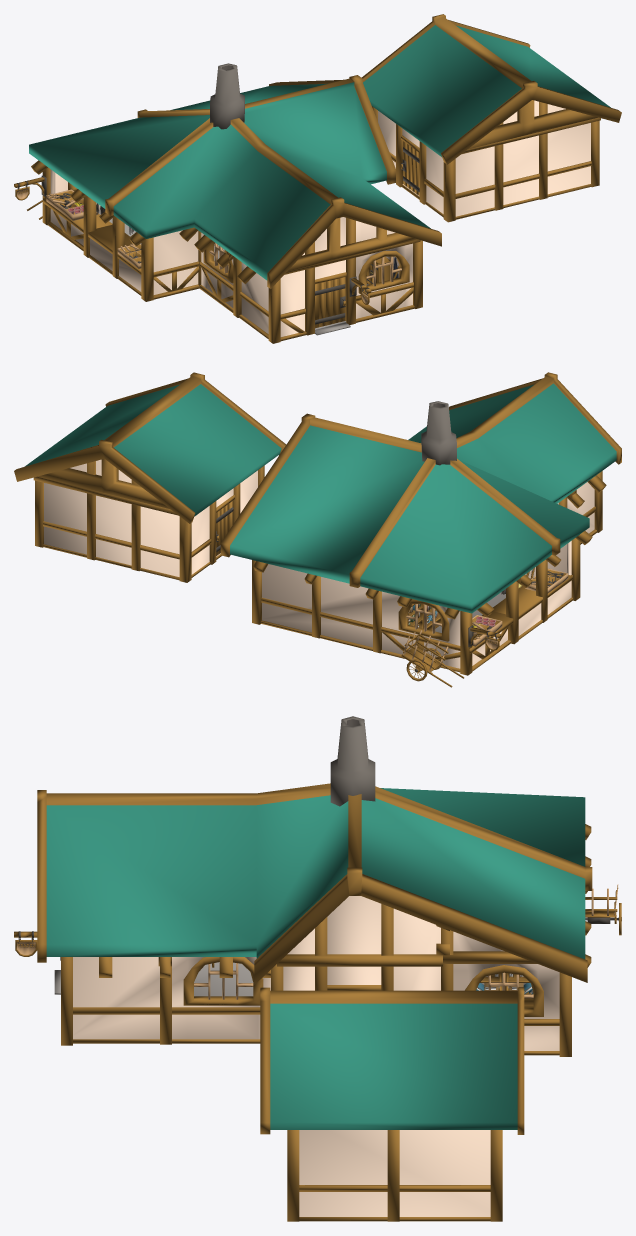
The model's file is SHOP_tradesman_03export.fbx.
The picture shows the model from 3 angles, top to bottom: view 1: azimuth 30°, elevation 25°; view 2: azimuth 150°, elevation 25°; view 3: azimuth 270°, elevation 25°; orthographic projection. The views are drawn at different scales.
Parts seen in each view (by area): view 1: Empty_Mesh_4, Empty_Mesh_2, Empty_Mesh_1, clothier_base, Empty_Mesh_3, Empty_Mesh; view 2: Empty_Mesh_4, Empty_Mesh_1, Empty_Mesh_2, clothier_base, Empty_Mesh, Empty_Mesh_3; view 3: Empty_Mesh_4, Empty_Mesh_1, Empty_Mesh_2, clothier_base, Empty_Mesh.
Boxes of the visible parts, x1=… form: Empty_Mesh_4: x1=29, y1=63, x2=441, y2=288; Empty_Mesh_2: x1=14, y1=160, x2=422, y2=343; Empty_Mesh_1: x1=361, y1=14, x2=621, y2=164; clothier_base: x1=372, y1=100, x2=600, y2=222; Empty_Mesh_3: x1=315, y1=141, x2=419, y2=328; Empty_Mesh: x1=27, y1=189, x2=399, y2=284; Empty_Mesh_4: x1=220, y1=372, x2=621, y2=613; Empty_Mesh_1: x1=14, y1=372, x2=286, y2=523; Empty_Mesh_2: x1=252, y1=471, x2=602, y2=675; clothier_base: x1=33, y1=459, x2=264, y2=582; Empty_Mesh: x1=401, y1=567, x2=568, y2=687; Empty_Mesh_3: x1=216, y1=501, x2=233, y2=555; Empty_Mesh_4: x1=37, y1=716, x2=592, y2=984; Empty_Mesh_1: x1=260, y1=987, x2=524, y2=1134; Empty_Mesh_2: x1=14, y1=824, x2=591, y2=1056; clothier_base: x1=287, y1=1130, x2=502, y2=1221; Empty_Mesh: x1=212, y1=884, x2=621, y2=1007.
Bounding box in the file's own units: 119 × 42.51 × 89.73.
